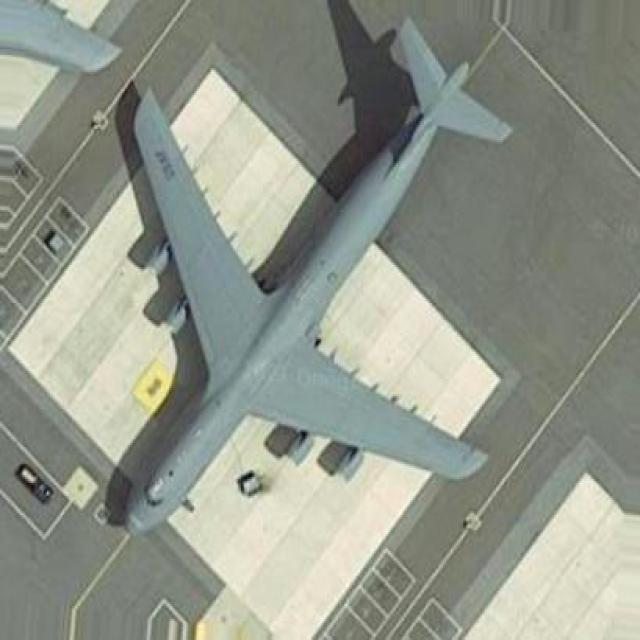C-5_TopDown: (104, 0, 517, 542)
